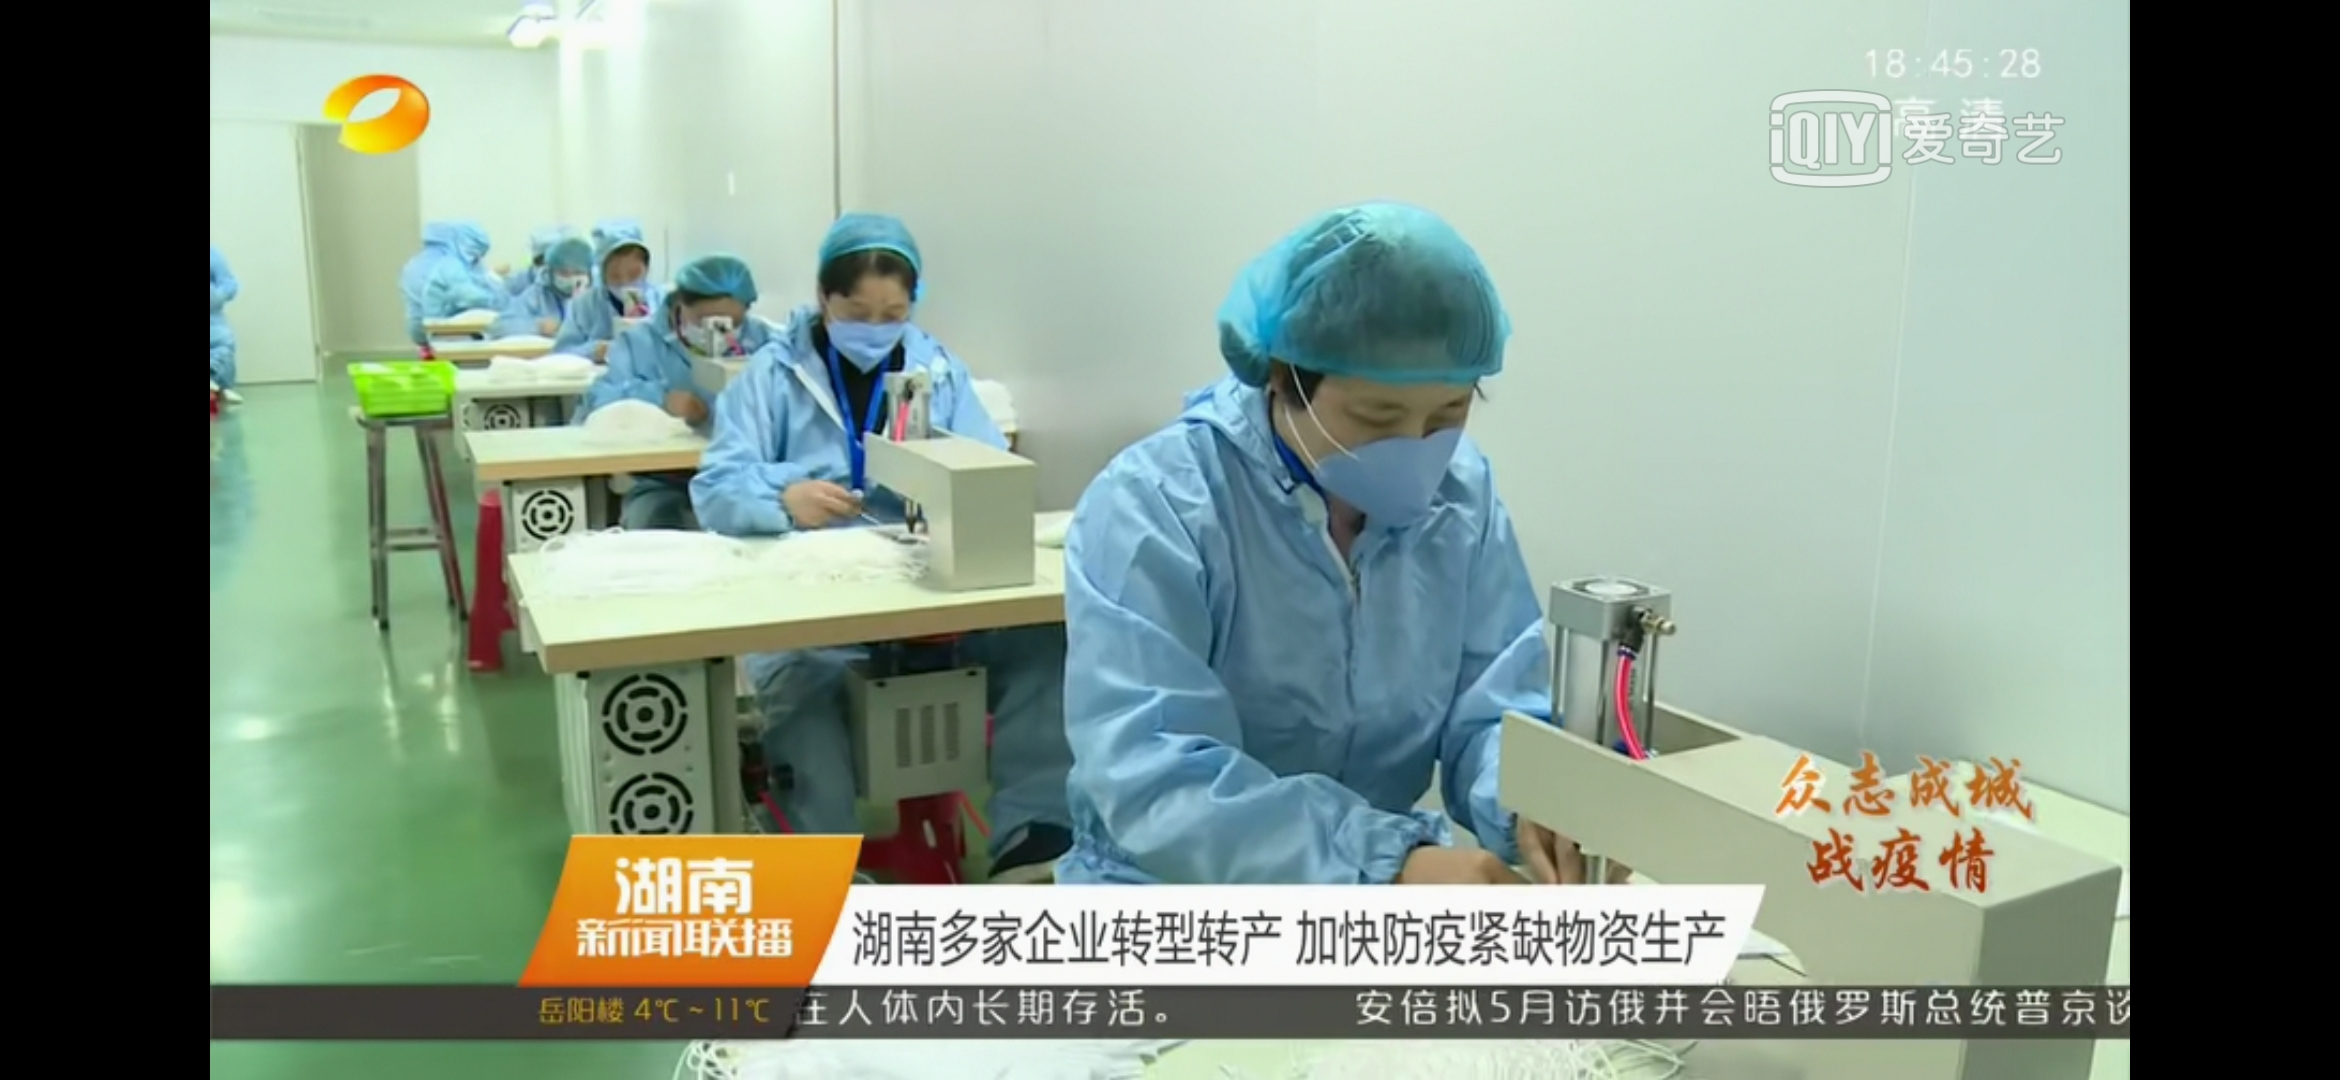correctlyWear: (1255, 362, 1473, 537), (824, 266, 915, 374), (678, 294, 754, 361), (603, 264, 648, 307), (551, 257, 591, 297)
